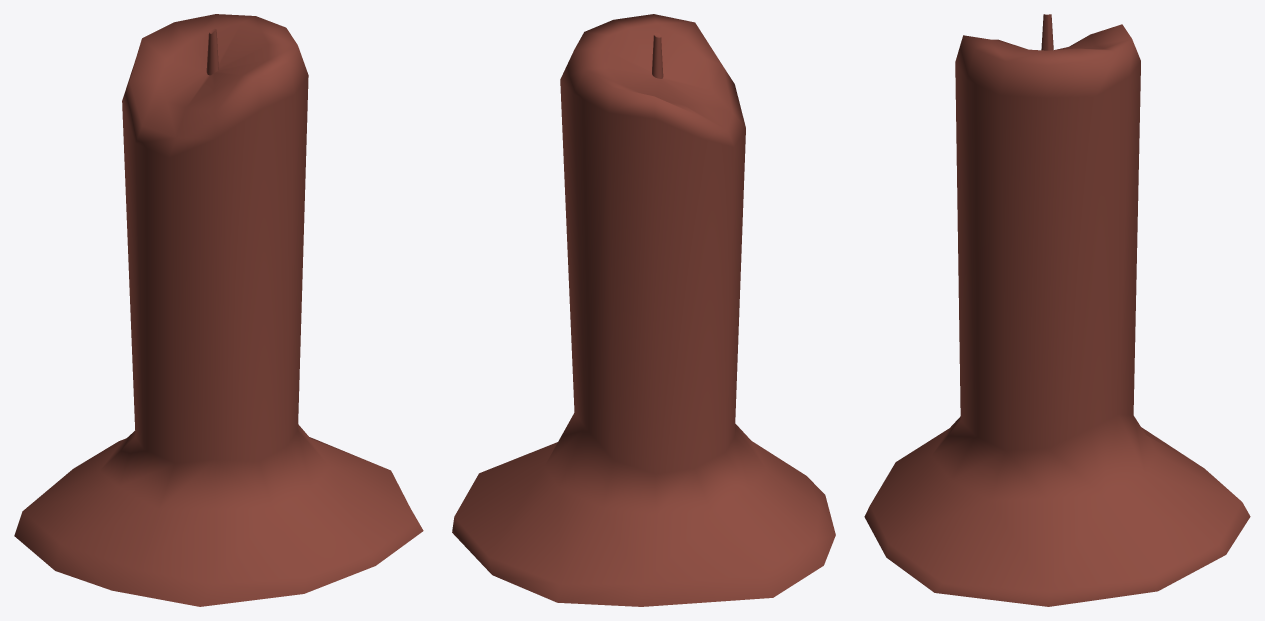
Rendered from Candle_05.fbx.
The picture shows the model from 3 angles, left to right: view 1: azimuth 30°, elevation 25°; view 2: azimuth 150°, elevation 25°; view 3: azimuth 270°, elevation 25°; orthographic projection.
Visible parts, largest first — view 1: Candle_05; view 2: Candle_05; view 3: Candle_05.
Boxes of the visible parts, x1=… form: Candle_05: x1=14, y1=14, x2=423, y2=606; Candle_05: x1=452, y1=14, x2=835, y2=606; Candle_05: x1=864, y1=14, x2=1250, y2=606.
Size of the model in its own units: 19.56 by 27.13 by 18.72.
